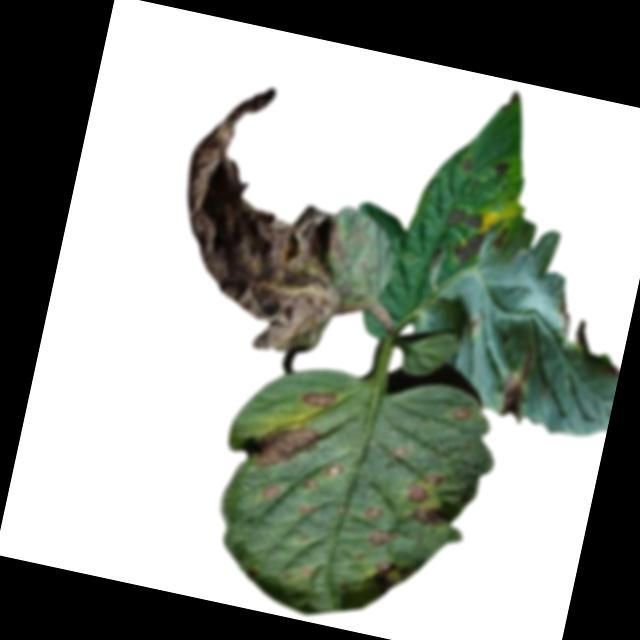Early_blight: (151, 69, 389, 362), (246, 416, 319, 473), (491, 340, 539, 421), (402, 463, 455, 526), (549, 285, 581, 344), (452, 229, 489, 270), (440, 205, 486, 234), (298, 383, 339, 410), (362, 523, 396, 550), (358, 500, 384, 523), (370, 557, 394, 580), (450, 406, 473, 425), (322, 460, 344, 479), (456, 154, 476, 174), (492, 156, 510, 178), (258, 481, 278, 500), (301, 477, 319, 491), (298, 500, 311, 513)
